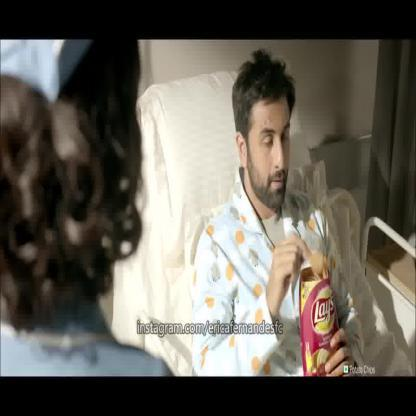tangy_tomato: (298, 264, 347, 388)
